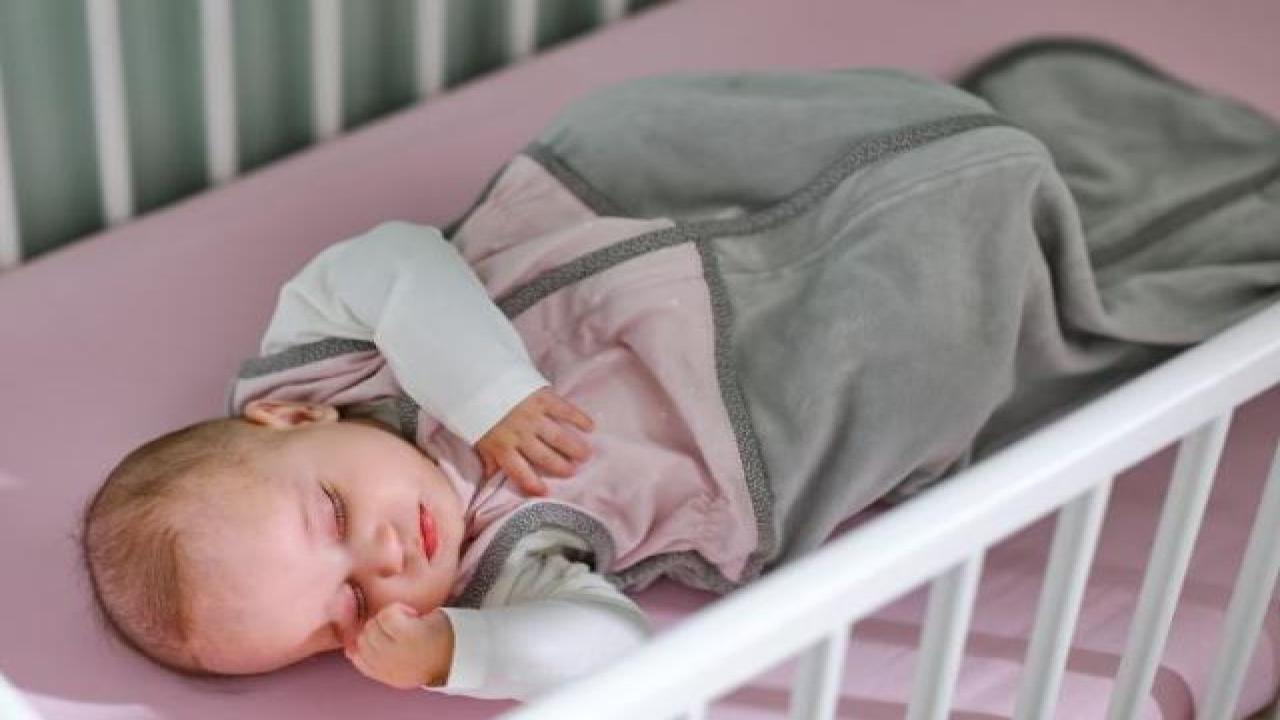hand: (470, 398, 590, 497), (350, 604, 423, 686)
